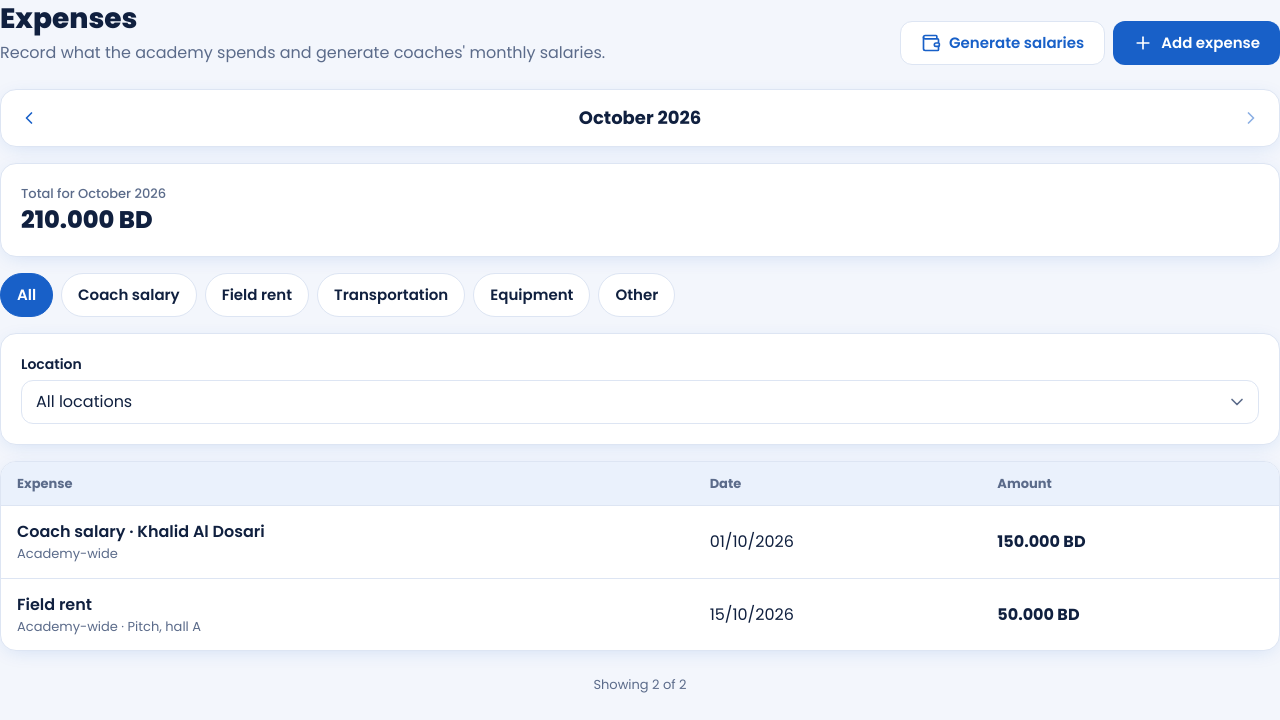
Test case: ExpensesPage › adding an expense › validates before saving
Click the button "Add expense" at (1197, 43), box x1=1113 y1=21 x2=1279 y2=65
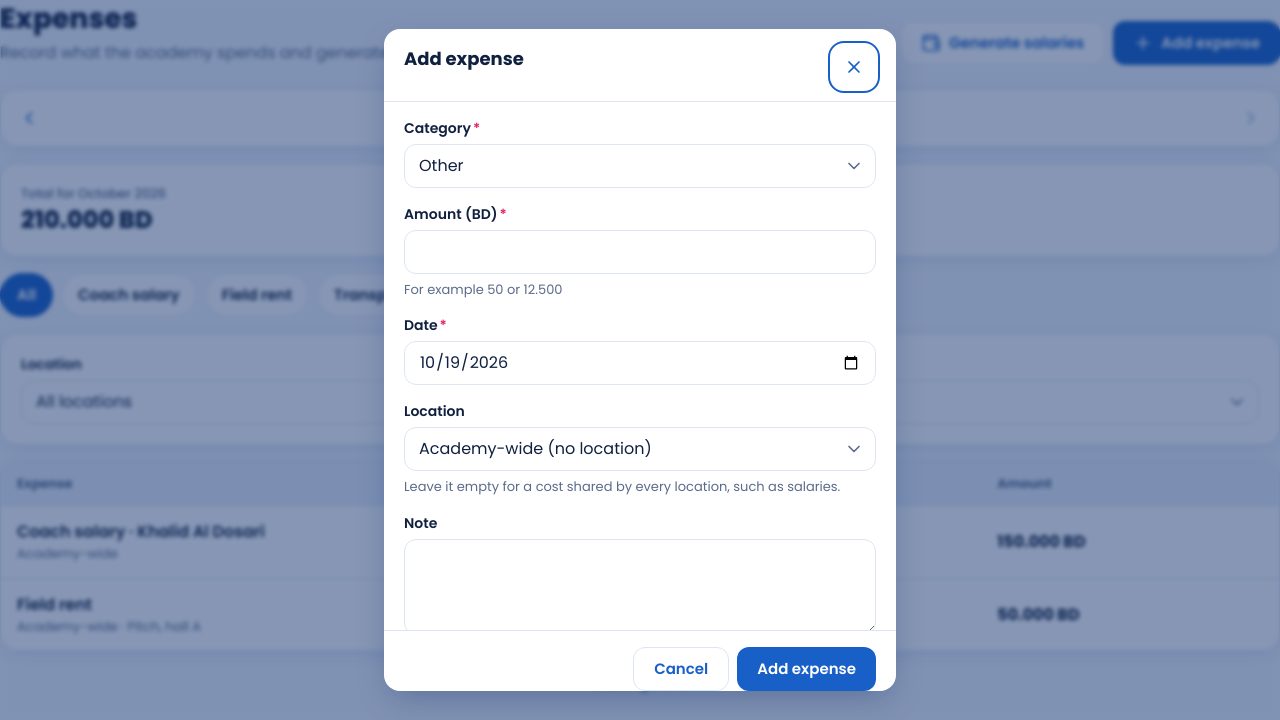
Click the button "Add expense" at (807, 669), box x1=737 y1=647 x2=876 y2=691
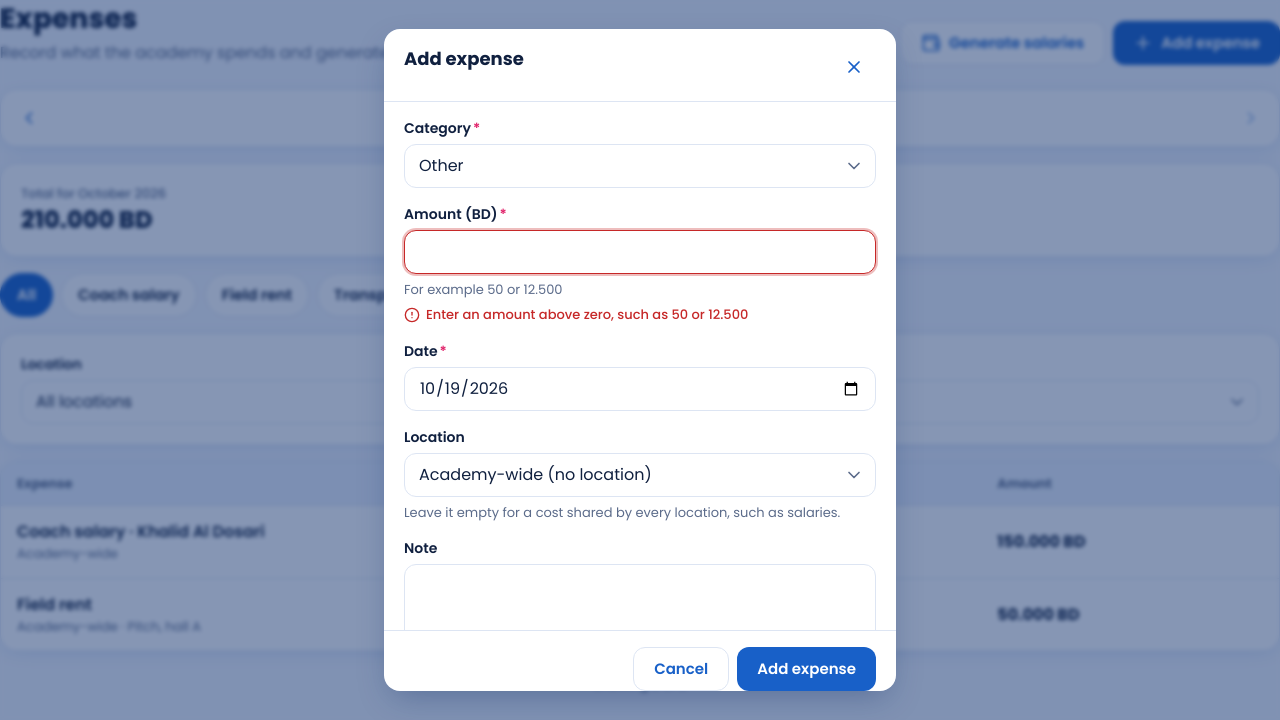
Check: the text "Enter an amount above zero, such as 50 or 12.500" is shown, box x1=426 y1=305 x2=748 y2=325
